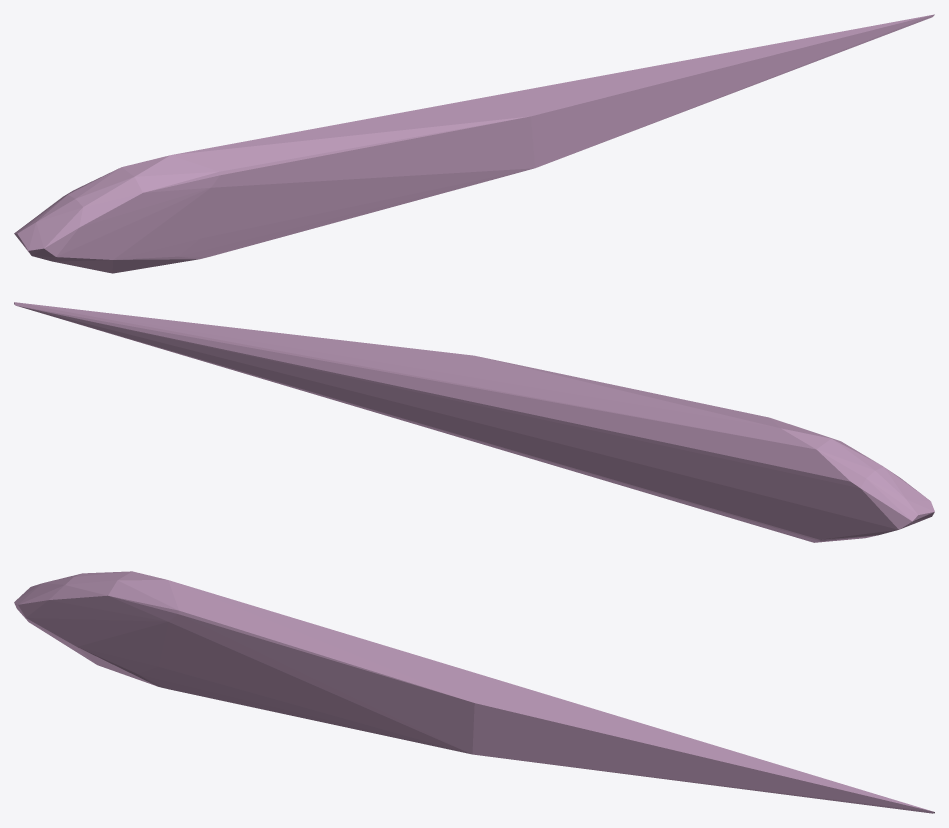
Rendered from paint_supplies_palletknife_a03.glb.
The picture shows the model from 3 angles, top to bottom: view 1: azimuth 30°, elevation 25°; view 2: azimuth 150°, elevation 25°; view 3: azimuth 330°, elevation 25°; orthographic projection.
Parts seen in each view (by area): view 1: geometry_0; view 2: geometry_0; view 3: geometry_0.
Boxes of the visible parts, x1,y1,x2,y2 form: geometry_0: (14, 14, 934, 273); geometry_0: (14, 302, 934, 542); geometry_0: (14, 571, 934, 813).
Size of the model in its own units: 0.4789 by 0.052 by 0.0375.
